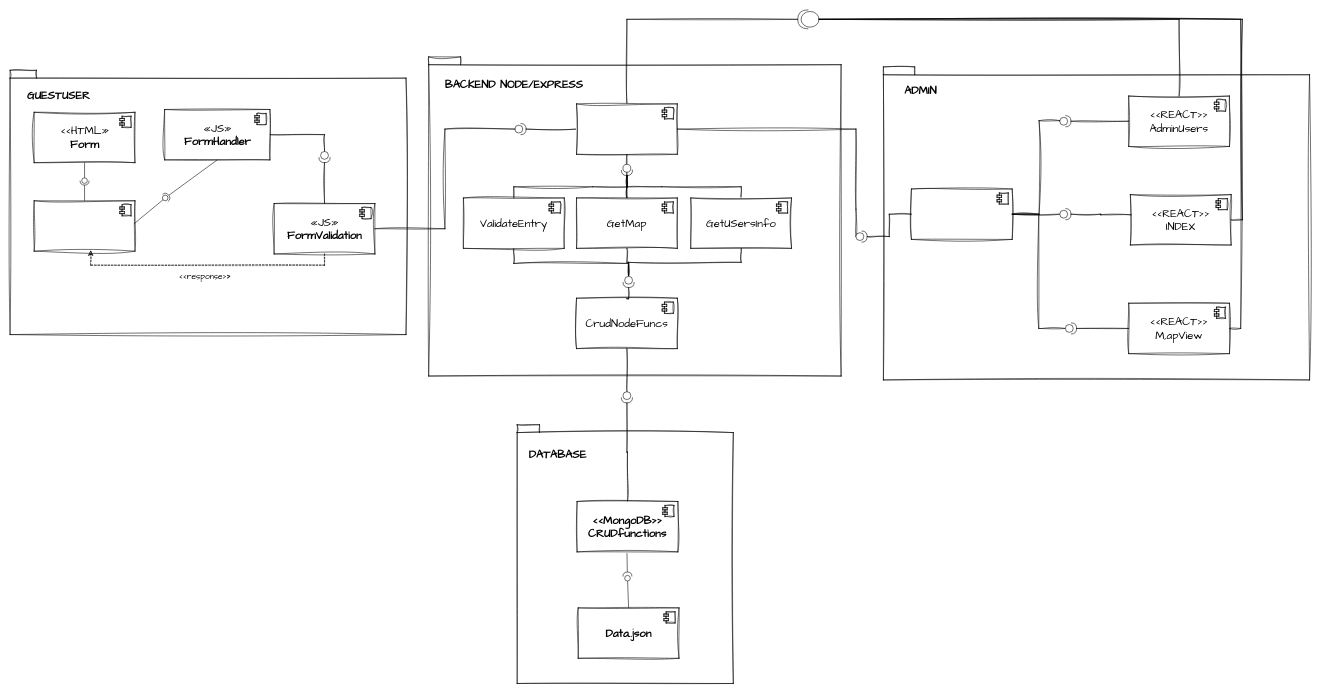
The diagram is 1319 pixels wide and 693 high, and some of its shapes have lost their labels. The box of each missing label's shape, as (x1, y1, x2, y2) in pixels:
<<REACT>> RequestFlag: (911, 188, 1012, 239)
<<REACT» INDEX: (34, 200, 135, 251)
RequestHandler: (576, 103, 677, 154)
